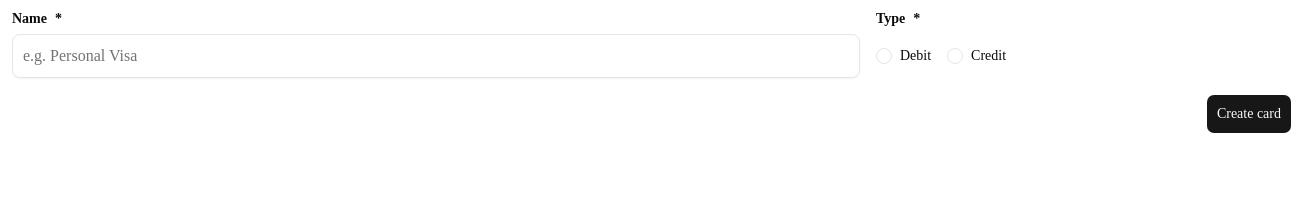
Test: CardForm › renders the server error string directly, with no further translation
Step 1. Type "Personal Visa" into the field labelled "Name *" → (436, 56), box [12,34,860,78]
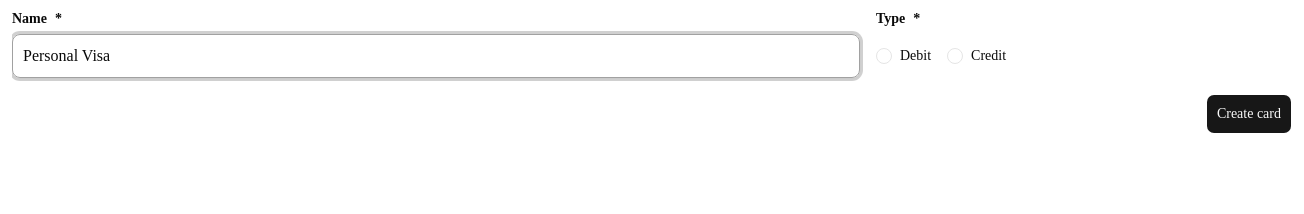
Step 2. Click the radio button named "credit" next to "Credit" → click(955, 56), box [947,48,963,64]
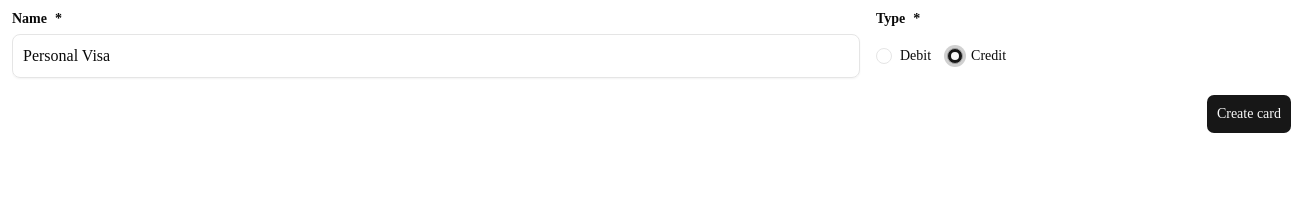
Step 3. Click the button "Create card" → click(1249, 114), box [1206,94,1292,134]
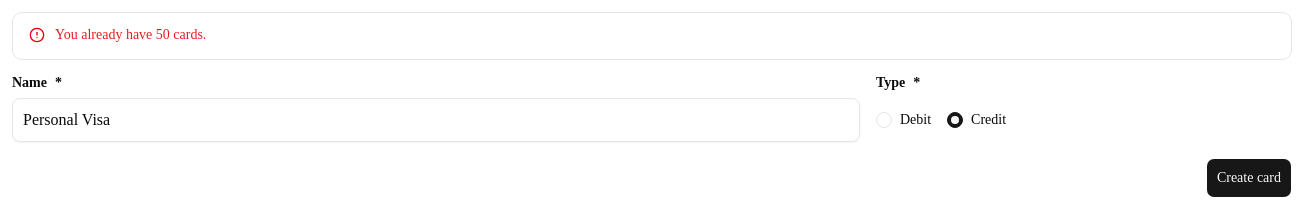
Check: the message reads "You already have 50 cards.", box [55,27,206,42]
